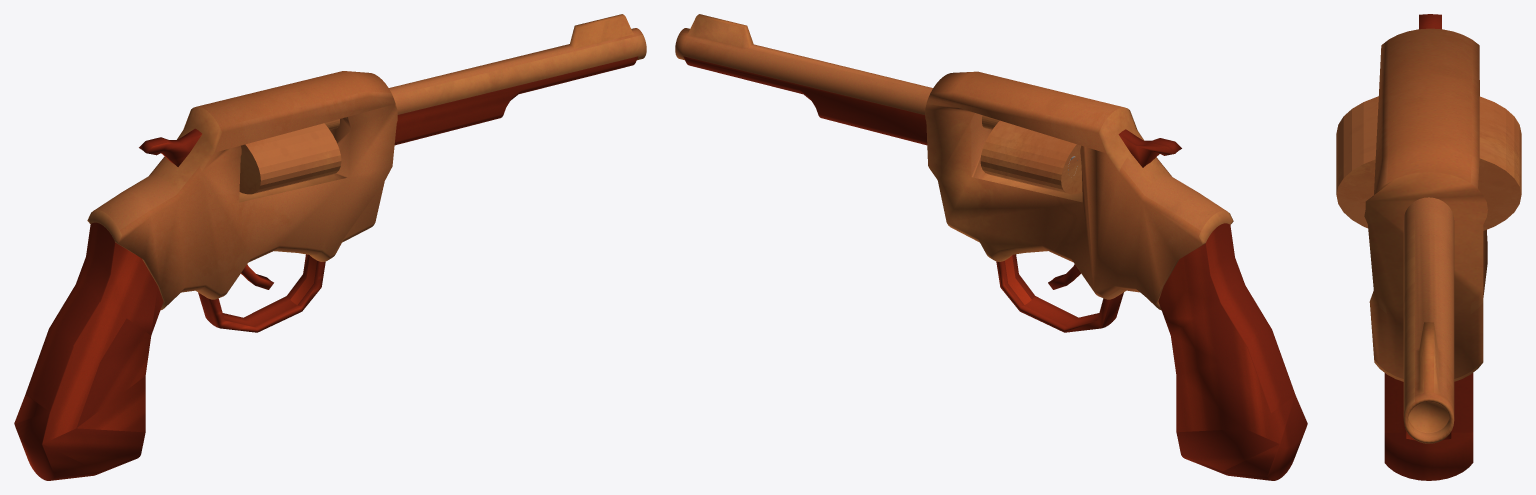
The model's file is revolver.fbx.
3 views of the same model, side by side, from view 1: azimuth 30°, elevation 25°; view 2: azimuth 150°, elevation 25°; view 3: azimuth 270°, elevation 25° (orthographic). The views are drawn at different scales.
Visible parts, largest first — view 1: Cylinder, Cylinder.005, Cylinder.002; view 2: Cylinder, Cylinder.005, Cylinder.002; view 3: Cylinder, Cylinder.002, Cylinder.005.
Boxes of the visible parts, x1,y1,x2,y2 form: Cylinder: [87, 14, 646, 309]; Cylinder.005: [14, 56, 638, 480]; Cylinder.002: [239, 123, 341, 194]; Cylinder: [675, 14, 1233, 310]; Cylinder.005: [683, 56, 1307, 480]; Cylinder.002: [980, 120, 1082, 194]; Cylinder: [1364, 28, 1487, 443]; Cylinder.002: [1336, 96, 1521, 230]; Cylinder.005: [1384, 14, 1473, 480].
Size of the model in its own units: 997 by 519 by 166.
